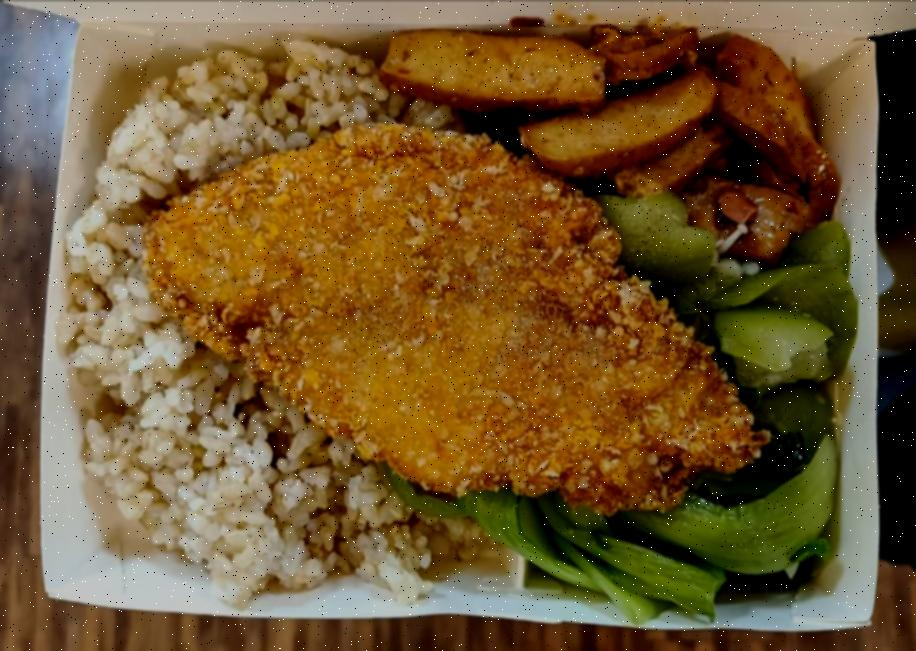big grilled chicken leg: (27, 5, 889, 639)
box: (65, 48, 497, 588)
braised fish fillet: (378, 16, 838, 230), (431, 410, 856, 612), (605, 190, 856, 408)
braised pork: (139, 114, 763, 514)
